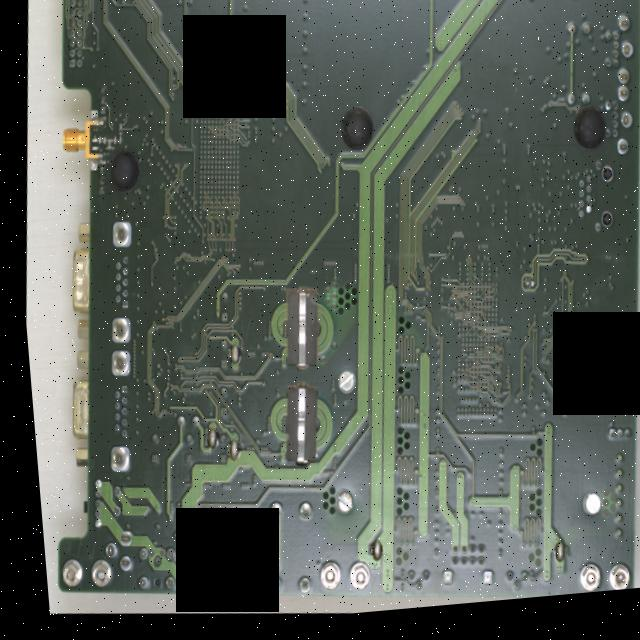-component text- 000: (96, 138, 100, 142)
-component text- 22R: (111, 139, 116, 143)
-component text- 51R0: (104, 142, 107, 148)
2234: (109, 137, 119, 146), (94, 136, 103, 146), (102, 140, 110, 151)
2697: (357, 549, 363, 560)
2743: (219, 350, 225, 362)
2763: (216, 446, 222, 456)
3243: (552, 553, 558, 566)
4401: (194, 429, 201, 449)
capacitor: (517, 288, 524, 295)
capacitor 3V3: (361, 545, 372, 566)
capacitor 5V0: (222, 347, 233, 368)
capacitor C1: (220, 440, 231, 462)
capacitor FC1: (542, 547, 554, 572)
capacitor c12: (198, 429, 209, 451)
connector: (56, 218, 96, 344), (54, 347, 94, 470), (54, 106, 107, 174), (598, 461, 620, 549), (601, 411, 621, 424)
pads unknown: (87, 139, 95, 151)
pins unknown: (250, 500, 309, 600), (603, 23, 640, 168), (557, 29, 594, 116), (583, 167, 614, 244), (123, 544, 170, 594), (78, 475, 116, 530), (98, 314, 129, 380), (61, 0, 89, 71), (138, 429, 187, 469), (91, 527, 126, 575), (428, 571, 484, 598), (99, 383, 125, 441), (104, 254, 128, 311), (569, 181, 591, 229), (438, 548, 475, 576), (97, 442, 124, 476), (105, 219, 131, 251), (599, 40, 619, 80), (598, 109, 617, 149), (492, 574, 519, 602), (394, 573, 420, 599), (600, 347, 626, 364), (208, 434, 221, 467), (211, 294, 224, 327), (209, 389, 222, 421), (91, 166, 104, 197), (210, 341, 223, 372), (93, 84, 105, 117), (166, 415, 192, 430), (598, 435, 623, 450)
